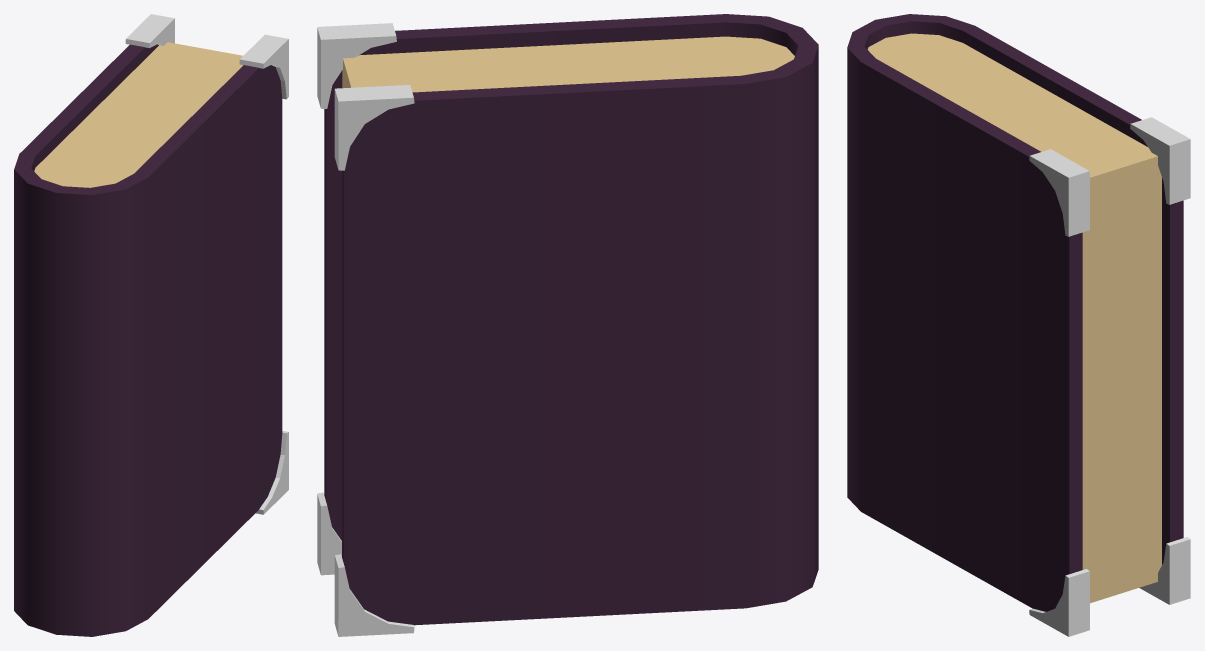
The model's file is obj_Book_12.fbx.
The picture shows the model from 3 angles, left to right: view 1: azimuth 30°, elevation 25°; view 2: azimuth 150°, elevation 25°; view 3: azimuth 270°, elevation 25°; orthographic projection. The views are drawn at different scales.
Parts seen in each view (by area): view 1: Book_12, Book_EdgePattern.027; view 2: Book_12, Book_EdgePattern.027; view 3: Book_12, Book_EdgePattern.027.
Boxes of the visible parts, x1,y1,x2,y2 form: Book_12: (14,42,282,636); Book_EdgePattern.027: (125,14,288,514); Book_12: (324,14,818,625); Book_EdgePattern.027: (317,23,414,636); Book_12: (847,14,1183,611); Book_EdgePattern.027: (1029,117,1190,636).
Bounding box in the file's own units: 0.2238 × 0.2843 × 0.1927.
